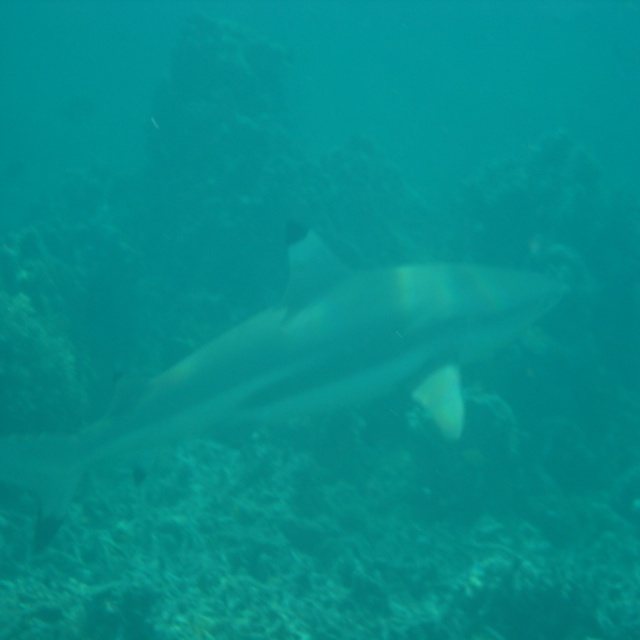Shark: (35, 229, 586, 507)
